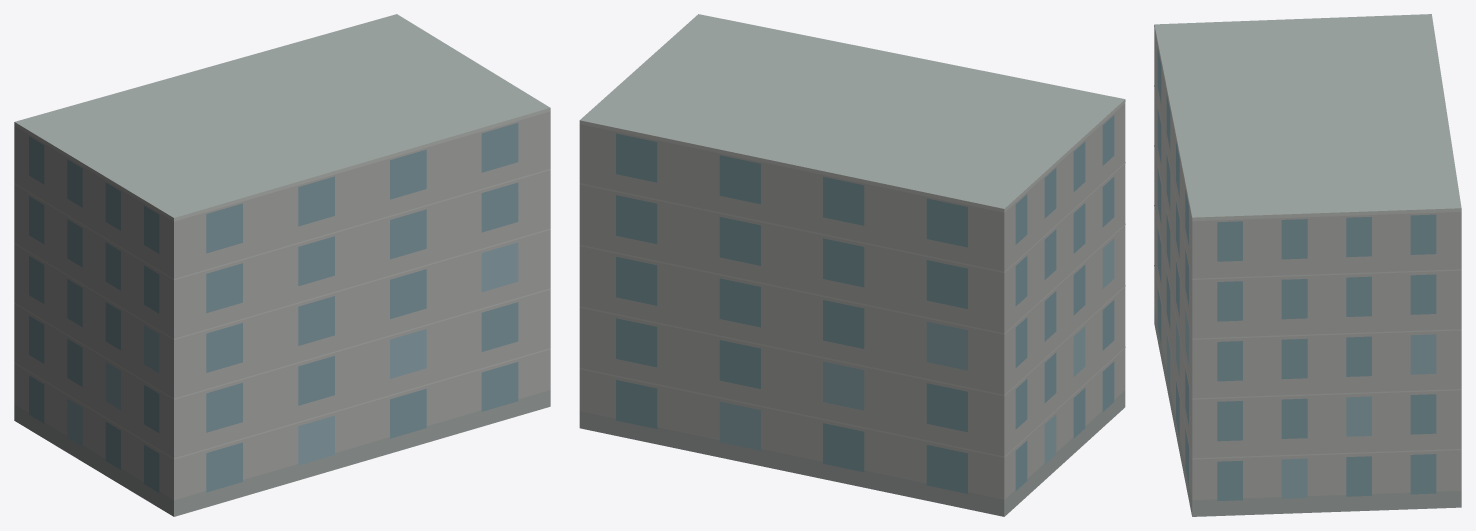
The model's file is survey-upis-32538189.glb.
3 renders of one model, left to right at view 1: azimuth 30°, elevation 25°; view 2: azimuth 150°, elevation 25°; view 3: azimuth 270°, elevation 25°, orthographic. The views are drawn at different scales.
Parts seen in each view (by area): view 1: survey-upis-32538189.tmp; view 2: survey-upis-32538189.tmp; view 3: survey-upis-32538189.tmp.
Boxes of the visible parts, x1=… form: survey-upis-32538189.tmp: x1=14, y1=14, x2=550, y2=516; survey-upis-32538189.tmp: x1=579, y1=14, x2=1125, y2=516; survey-upis-32538189.tmp: x1=1154, y1=14, x2=1461, y2=516.
Bounding box in the file's own units: 29.04 × 19.89 × 18.53.
